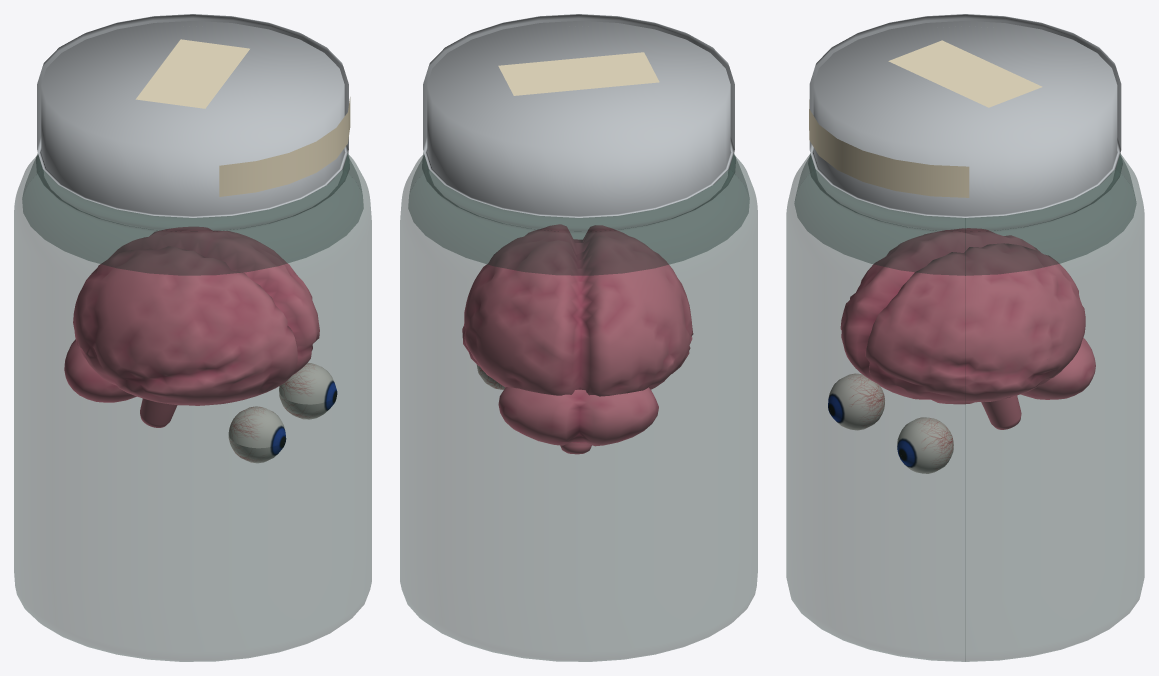
The picture shows the model from 3 angles, left to right: view 1: azimuth 30°, elevation 25°; view 2: azimuth 150°, elevation 25°; view 3: azimuth 270°, elevation 25°; orthographic projection.
Parts seen in each view (by area): view 1: jar, solid; view 2: jar, solid; view 3: jar, solid.
Part boxes in pixels (x1,y1,x2,y2): jar: (14,152,371,661); solid: (37,14,350,463); jar: (400,152,757,661); solid: (423,14,734,454); jar: (786,153,1144,661); solid: (809,14,1121,473).
Bounding box in the file's own units: 11.93 × 18.97 × 11.93.
Materials: 2 (1 with a texture image).
